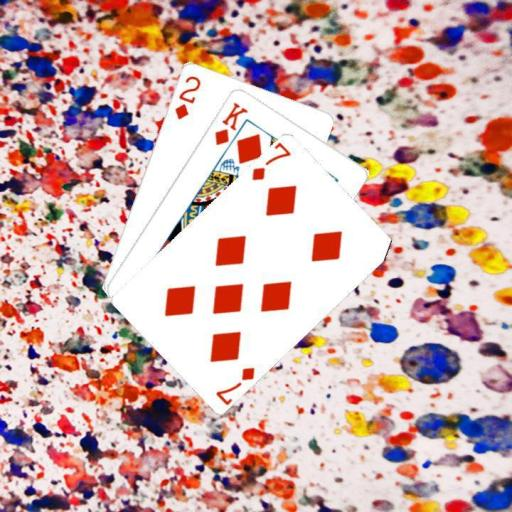card-corner: (248, 140, 293, 182), (212, 362, 256, 404), (211, 99, 250, 146), (171, 72, 202, 121)
